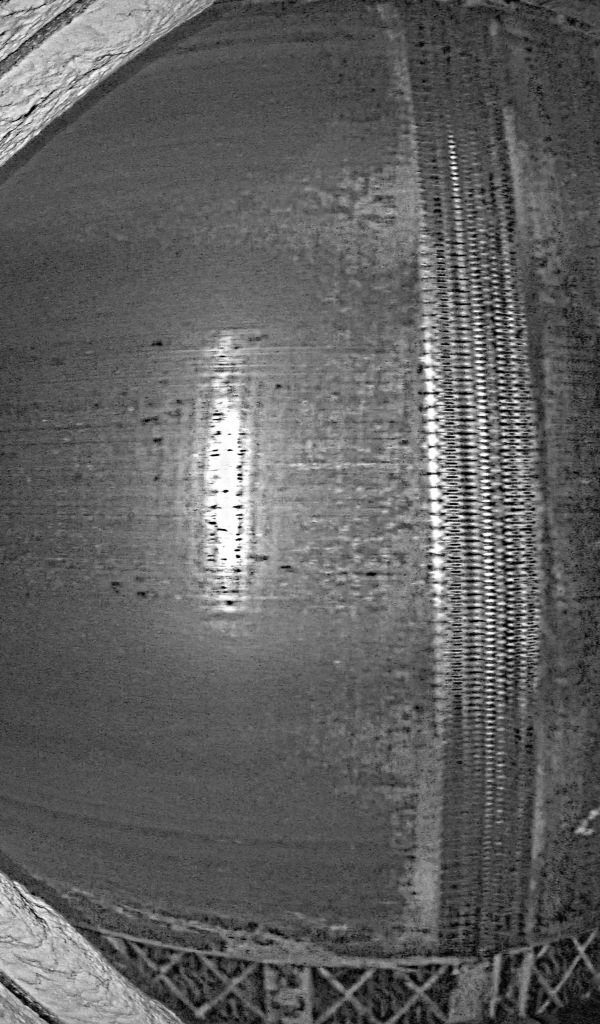splice: (393, 1, 546, 972)
